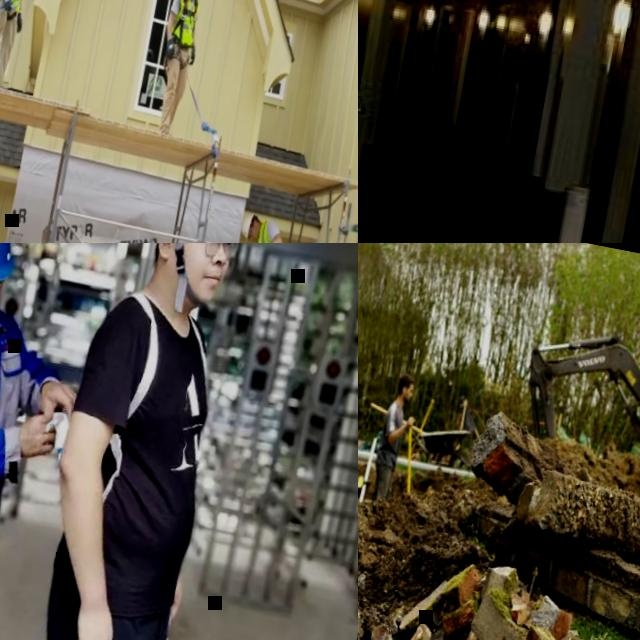Hardhat: (238, 211, 255, 241)
NO-Hardhat: (398, 371, 414, 386)
NO-Mask: (186, 264, 225, 305), (249, 225, 258, 243), (403, 390, 413, 402)
NO-Safety Vest: (52, 291, 232, 625), (0, 301, 39, 578), (373, 401, 409, 470)
Person: (7, 243, 264, 640), (0, 243, 114, 640), (145, 0, 213, 137), (365, 369, 424, 508), (0, 0, 44, 91)
Safety Vest: (168, 0, 201, 46), (242, 217, 289, 243)
machinery: (502, 243, 640, 545)
